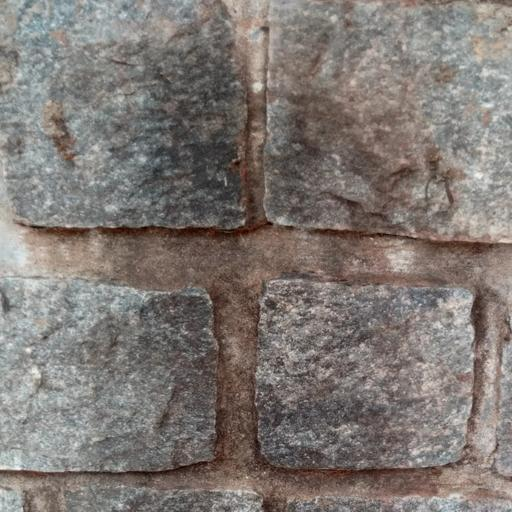stain: (60, 28, 405, 512)
